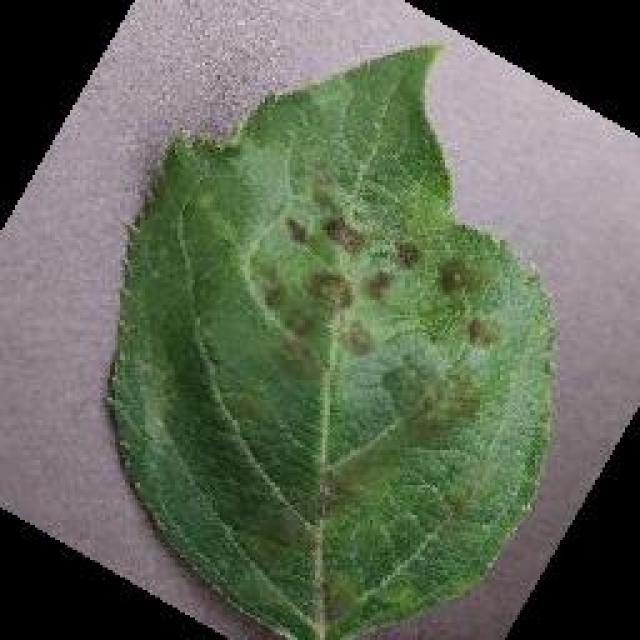apple scab disease: (102, 38, 560, 638)
